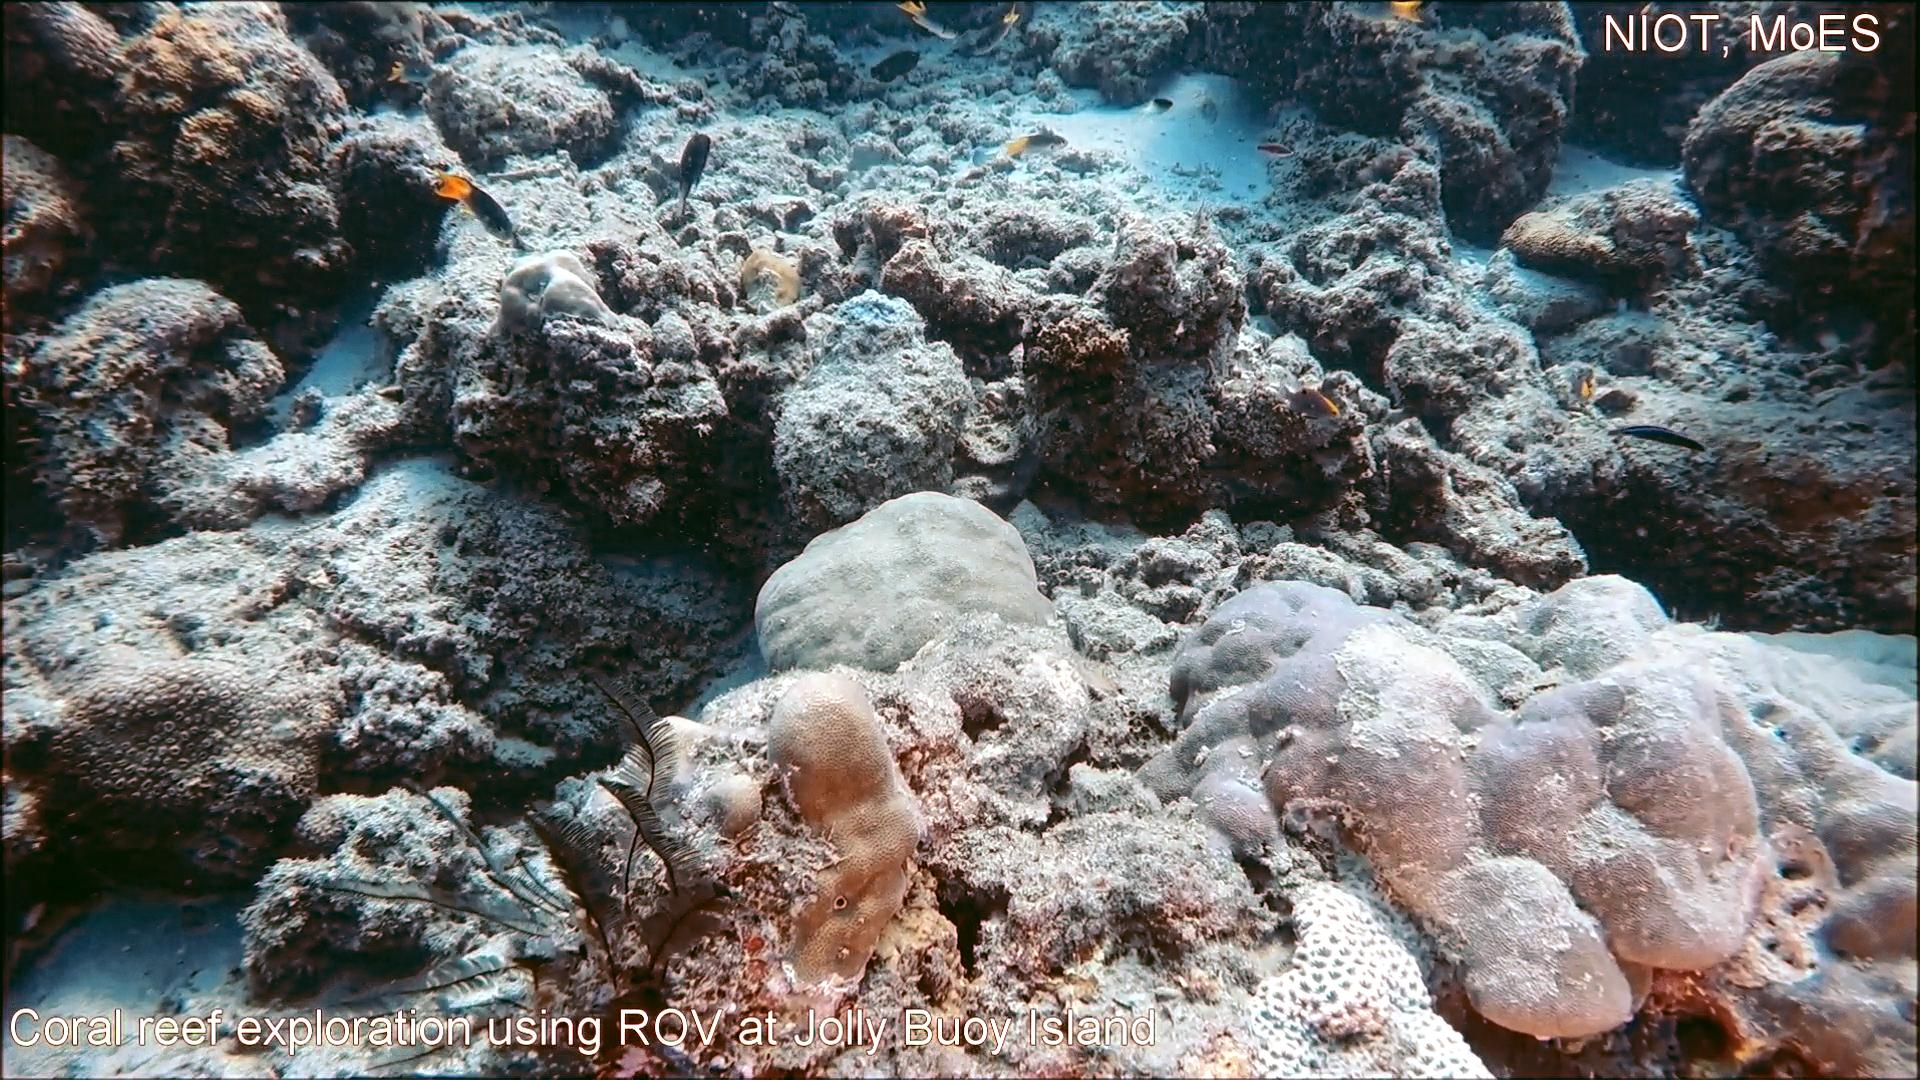Feather star-Crinoid star: (287, 654, 725, 1080)
Goniastrea-Goniastrea pectinata: (1244, 873, 1506, 1080)
Porites-Porites pukoensis: (1600, 568, 1920, 1080)
Turbinaria-Turbinaria stellulata: (38, 653, 344, 847)
